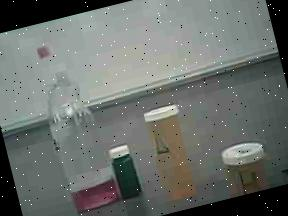Bottle A: (135, 92, 210, 212)
Bottle B: (210, 129, 273, 199)
Bottle C: (106, 137, 149, 204)
hazard: (17, 19, 124, 216)
